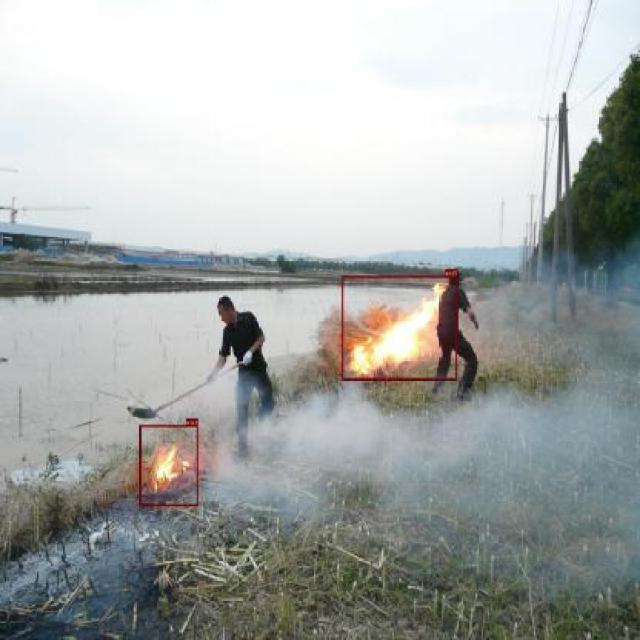Fire: (342, 275, 458, 380), (140, 424, 198, 506)
Smoke: (320, 395, 640, 528)
